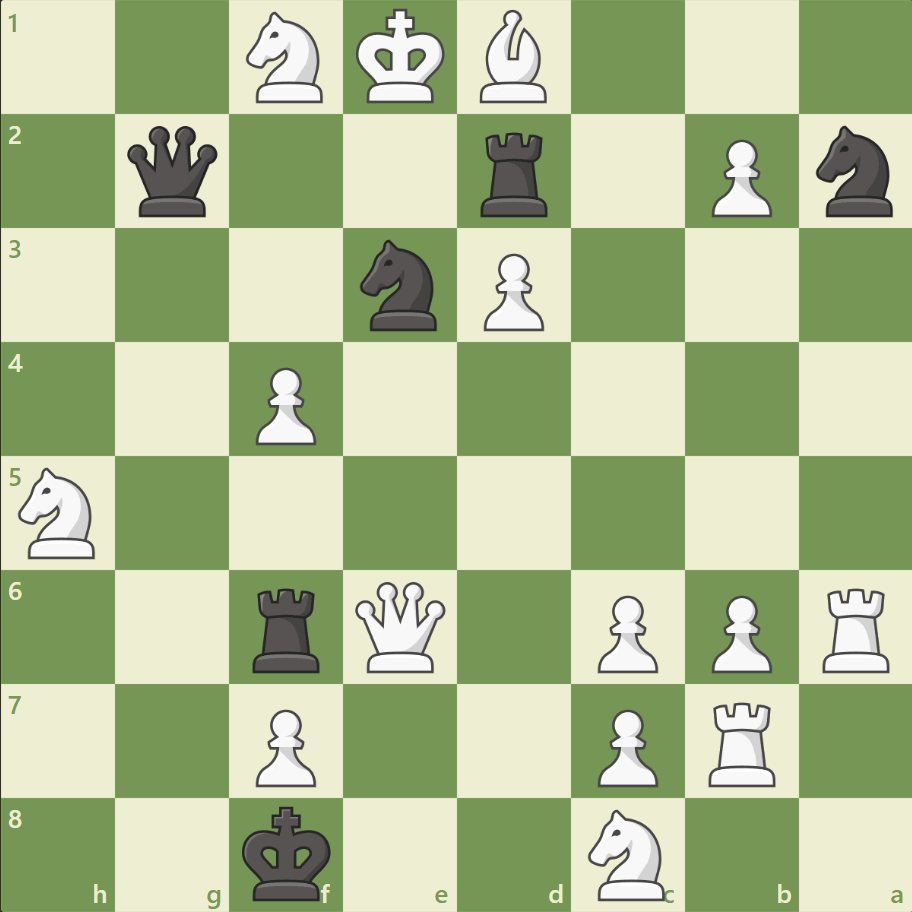B: (471, 6, 555, 109)
K: (351, 4, 451, 112)
N: (11, 461, 108, 564), (238, 7, 335, 110), (579, 802, 676, 904)
P: (247, 700, 322, 791), (701, 586, 776, 677), (247, 359, 322, 450), (474, 246, 549, 337), (701, 132, 776, 223), (588, 700, 662, 791), (588, 586, 662, 677)
Q: (351, 576, 450, 676)
R: (700, 693, 783, 790), (814, 579, 897, 676)
k: (238, 798, 338, 906)
n: (351, 234, 449, 337), (806, 121, 903, 223)
q: (124, 122, 223, 222)
r: (246, 579, 329, 676), (473, 125, 556, 222)
